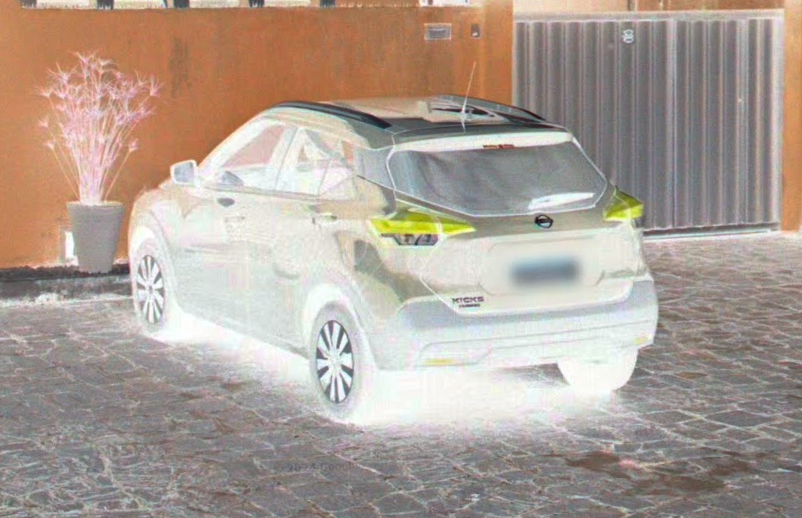car: (123, 60, 662, 429)
